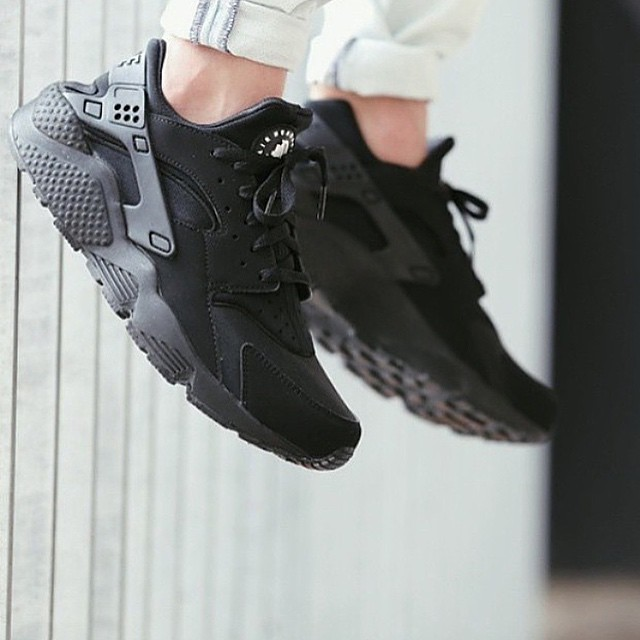sneaker: (1, 27, 384, 499), (254, 70, 580, 464)
